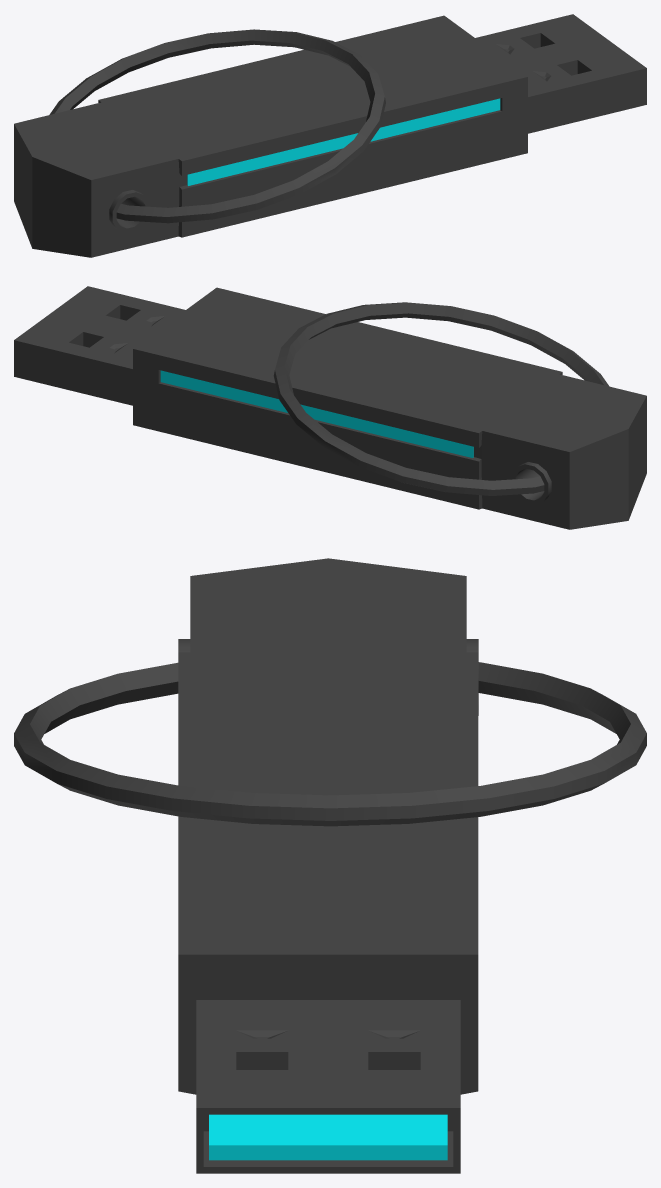
File: USB DAN.fbx
3 views of the same model, one above another, from view 1: azimuth 30°, elevation 25°; view 2: azimuth 150°, elevation 25°; view 3: azimuth 270°, elevation 25° (orthographic). The views are drawn at different scales.
Visible parts, largest first — view 1: USB DAN; view 2: USB DAN; view 3: USB DAN.
Part boxes in pixels (box(x1,y1,x2,y2)): USB DAN: box(14, 14, 646, 257); USB DAN: box(14, 286, 646, 529); USB DAN: box(14, 558, 646, 1173).
Size of the model in its own units: 114 by 21.78 by 60.2.
